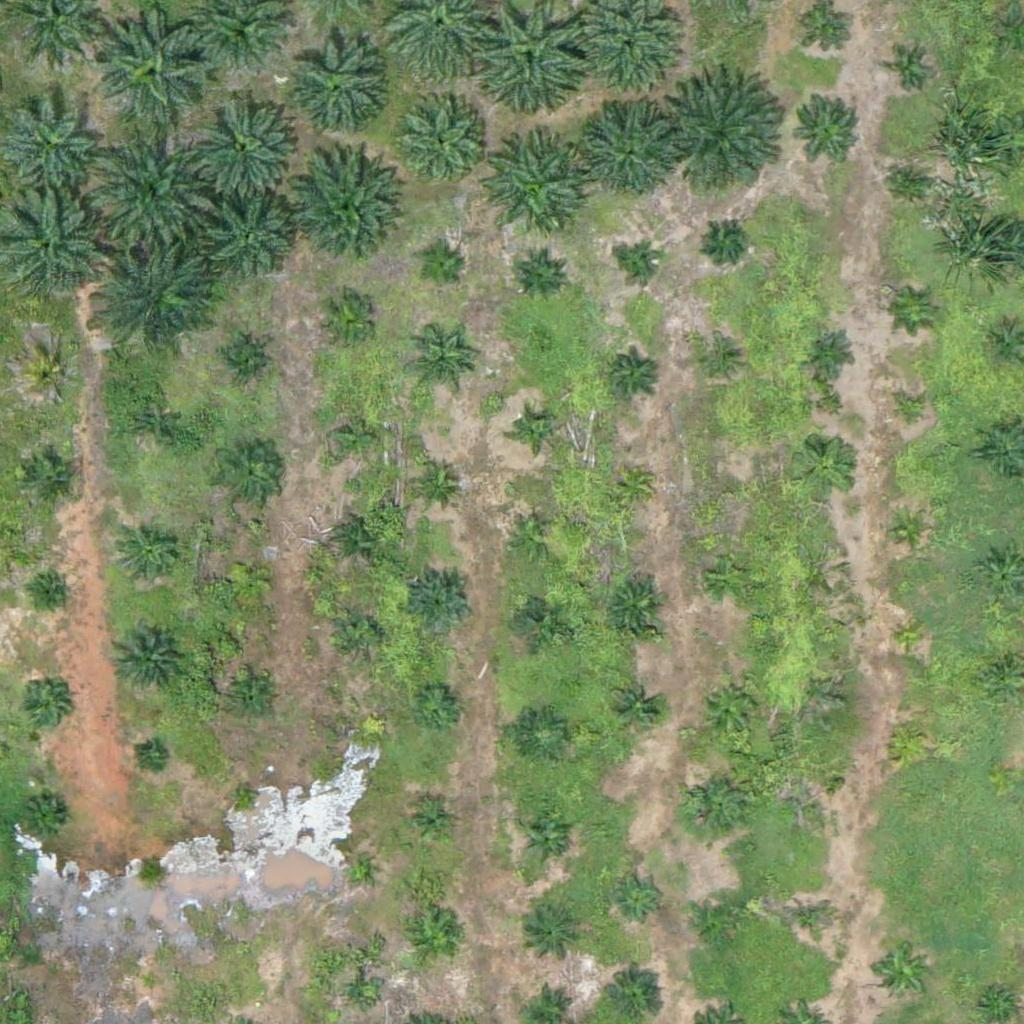Kelapa_Sawit: (88, 124, 213, 250), (96, 235, 221, 361), (666, 74, 791, 199), (287, 155, 400, 269), (188, 85, 300, 199), (98, 5, 210, 119), (476, 137, 588, 250), (577, 98, 677, 199), (391, 92, 491, 193), (284, 37, 384, 137), (206, 196, 294, 284), (110, 621, 185, 697), (790, 90, 865, 165), (523, 902, 586, 965), (408, 335, 471, 398), (314, 289, 377, 352), (681, 773, 744, 836), (871, 941, 934, 1004), (410, 571, 473, 634), (325, 406, 388, 469), (218, 444, 280, 507), (118, 523, 180, 586), (605, 575, 667, 638), (699, 676, 761, 739), (795, 436, 857, 499), (122, 393, 184, 456), (517, 710, 567, 761), (515, 592, 565, 643), (335, 514, 385, 565), (804, 7, 854, 58), (411, 457, 461, 508), (336, 608, 386, 659), (215, 335, 265, 386), (224, 554, 274, 605), (412, 681, 462, 732), (610, 681, 660, 732), (784, 896, 834, 947), (696, 894, 746, 945), (614, 871, 664, 922), (522, 813, 572, 864), (25, 452, 75, 502), (515, 250, 565, 300), (411, 915, 461, 965), (609, 348, 659, 398), (805, 327, 855, 377), (705, 552, 755, 602), (508, 512, 558, 562), (416, 245, 466, 295), (230, 675, 280, 725), (407, 798, 457, 848), (19, 681, 69, 731), (22, 795, 72, 845), (26, 352, 76, 402), (899, 292, 937, 330), (706, 220, 744, 258), (892, 393, 930, 431), (890, 512, 928, 550), (892, 619, 930, 657), (888, 719, 926, 757), (614, 466, 652, 504), (517, 411, 555, 449), (623, 246, 660, 284), (700, 344, 737, 382), (712, 473, 749, 511), (795, 771, 832, 809), (890, 54, 927, 91), (894, 164, 931, 201), (139, 744, 164, 770), (344, 855, 369, 880), (349, 983, 374, 1008), (232, 782, 257, 807), (40, 580, 65, 605), (138, 971, 163, 996)
